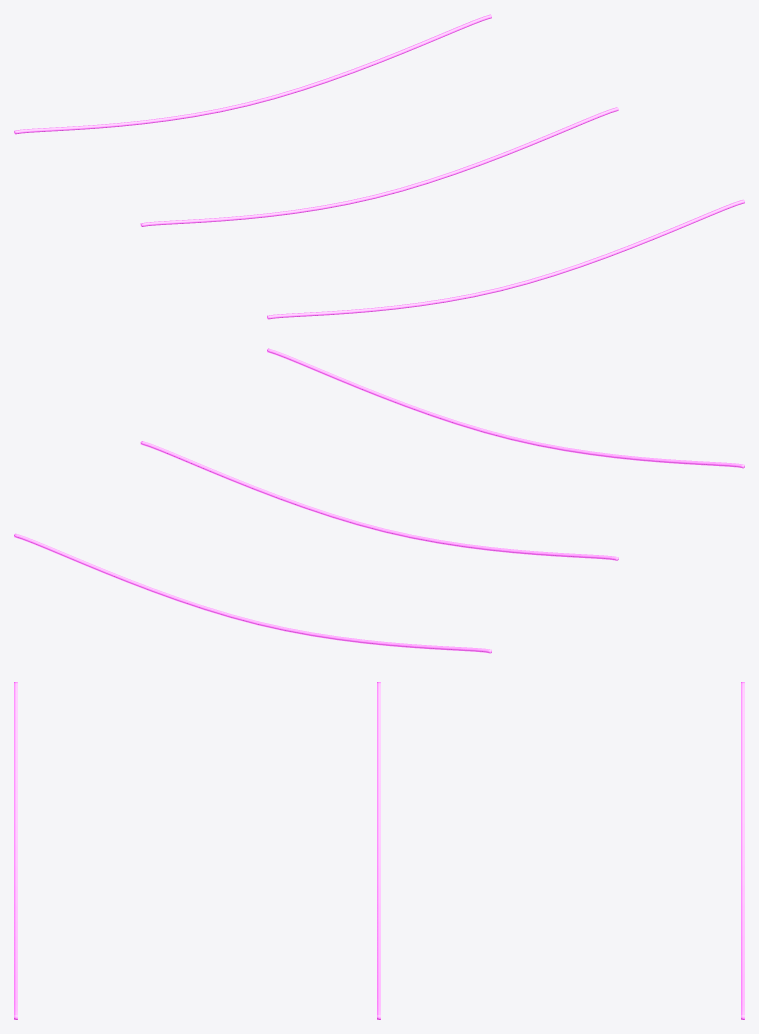
File: Lights.glb
3 renders of one model, top to bottom at view 1: azimuth 30°, elevation 25°; view 2: azimuth 150°, elevation 25°; view 3: azimuth 270°, elevation 25°, orthographic. The views are drawn at different scales.
Parts seen in each view (by area): view 1: Lights; view 2: Lights; view 3: Lights.
Part boxes in pixels (x1=…): Lights: x1=14, y1=14, x2=744, y2=319; Lights: x1=14, y1=348, x2=744, y2=653; Lights: x1=14, y1=682, x2=744, y2=1019.
Size of the model in its own units: 12.38 by 0.7745 by 11.44.
